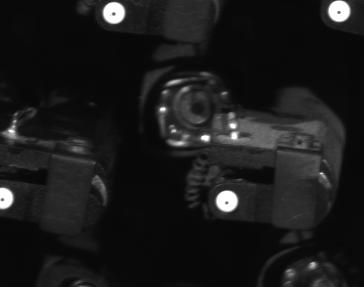fiber: (97, 1, 133, 29), (211, 186, 241, 218), (323, 1, 356, 27), (1, 180, 18, 215)
